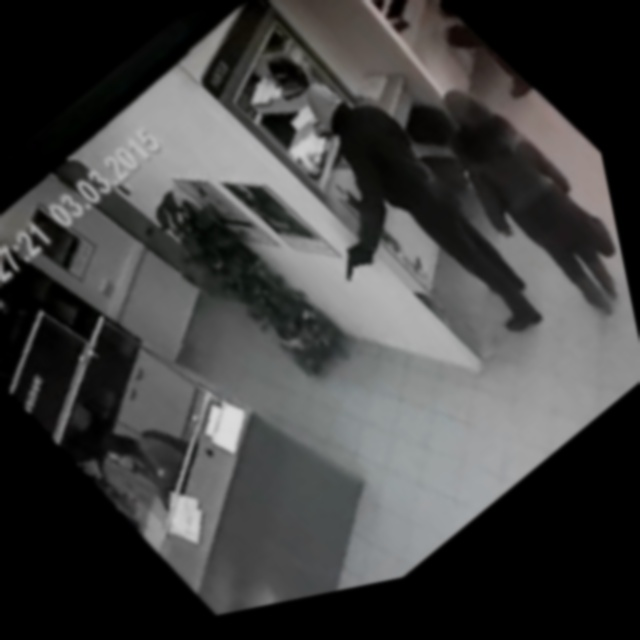gun: (321, 229, 391, 298)
